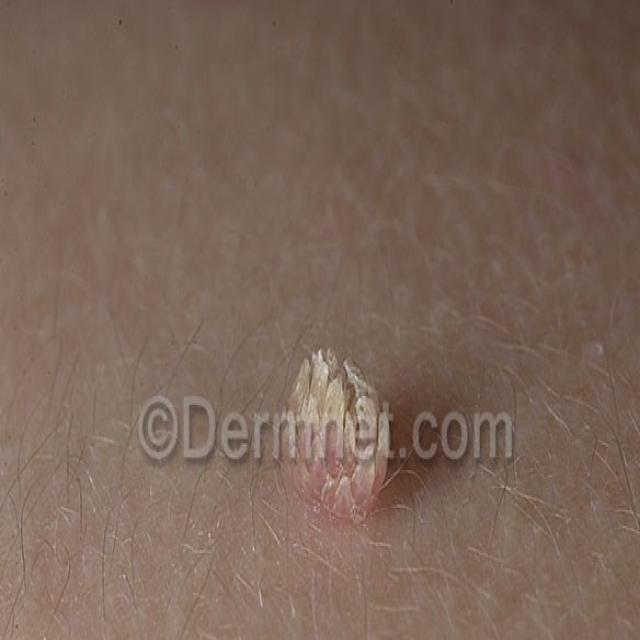Warts: (271, 334, 420, 568)
